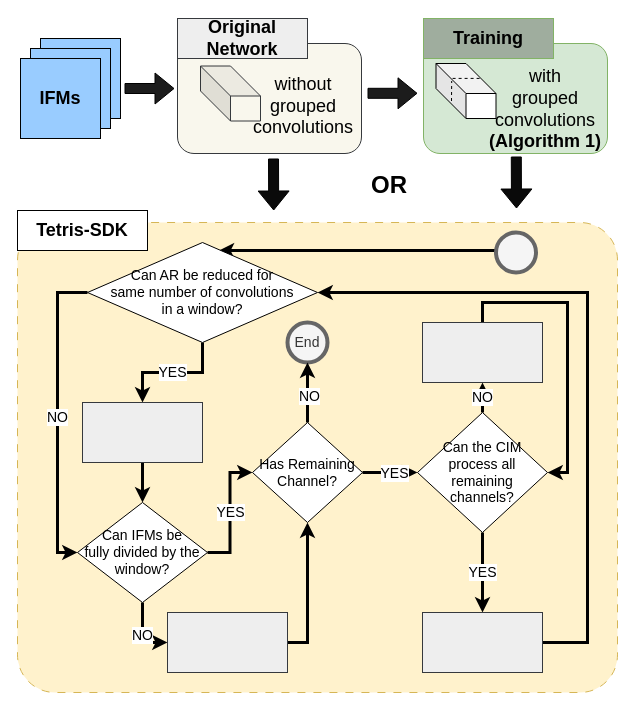
Image size: 635x710. Some labels were removed from this diagram. The shapes that lost their labels are listed below. From the top down, each one's centre as x and y in pixels, then its label:
At [516,252]: "Start".
At [482,352]: "Channel Pruning (Algorithm 4)".
At [142,432]: "A Square-Inclined Window (Algorithm 2)".
At [227,642]: "A Marginal Window (Algorithm 3)".
At [482,642]: "A Depth-Optimal Window (Algorithm 4)".
